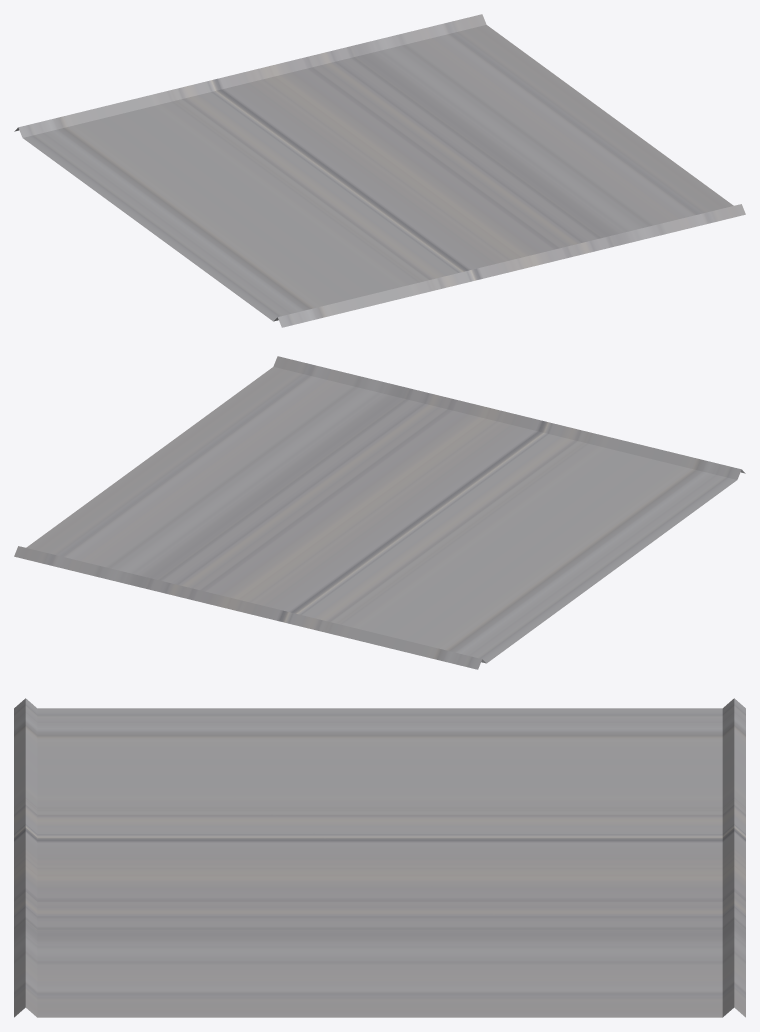
File: SM_Roof_Center.fbx
3 views of the same model, one above another, from view 1: azimuth 30°, elevation 25°; view 2: azimuth 150°, elevation 25°; view 3: azimuth 270°, elevation 25° (orthographic). The views are drawn at different scales.
Visible parts, largest first — view 1: SM_Roof_Center; view 2: SM_Roof_Center; view 3: SM_Roof_Center.
Part boxes in pixels (x1,y1,x2,y2): SM_Roof_Center: (14, 14, 745, 327); SM_Roof_Center: (14, 356, 745, 669); SM_Roof_Center: (14, 698, 745, 1017).
Size of the model in its own units: 4 by 0.0621 by 4.
